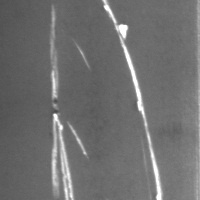scratches: (102, 1, 165, 199), (48, 5, 88, 199)
